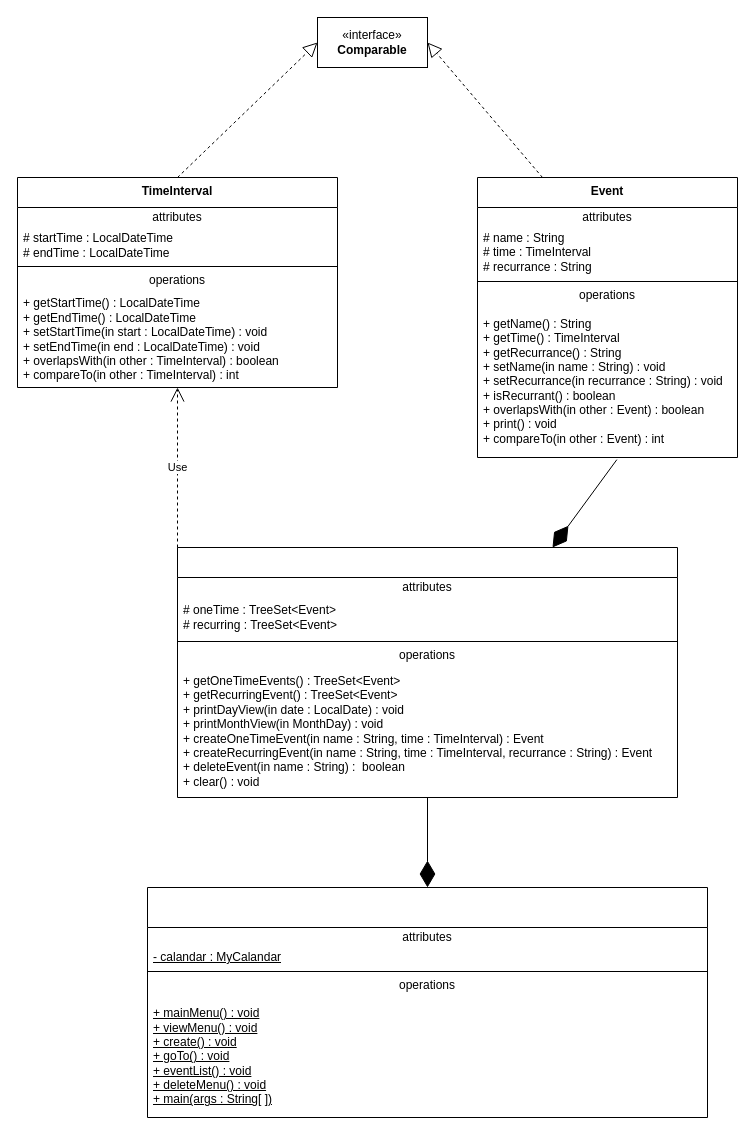
This 755x1135 diagram has some shape labels left out. Each missing label, with the box of its shape:
MyCalandar: (176, 546, 678, 798)
MyCalandarTester {driver}: (146, 886, 708, 1118)
